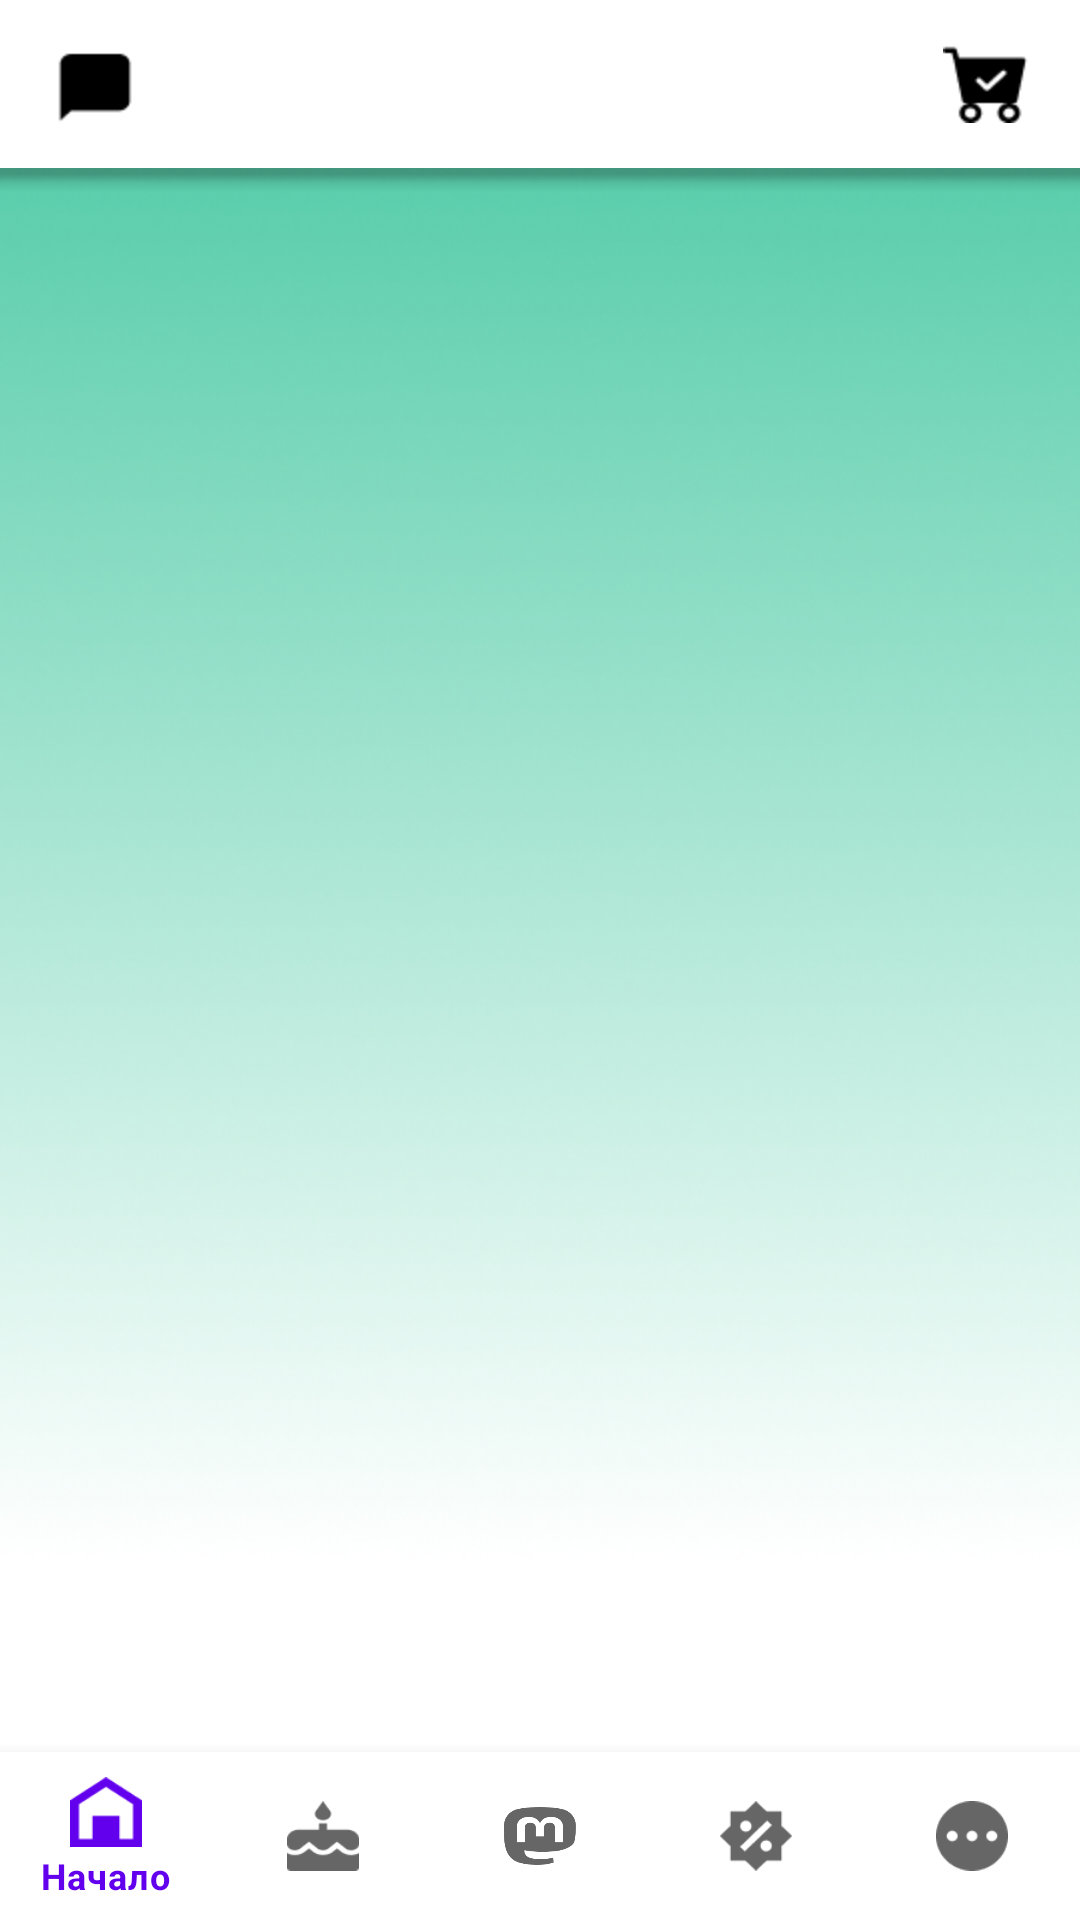

Locate icon controls on the screen. Image size 1080w x 1920h, boxes as bbox=[x1, y1, x2, y2].
cartin: bbox=[943, 46, 1027, 123]
